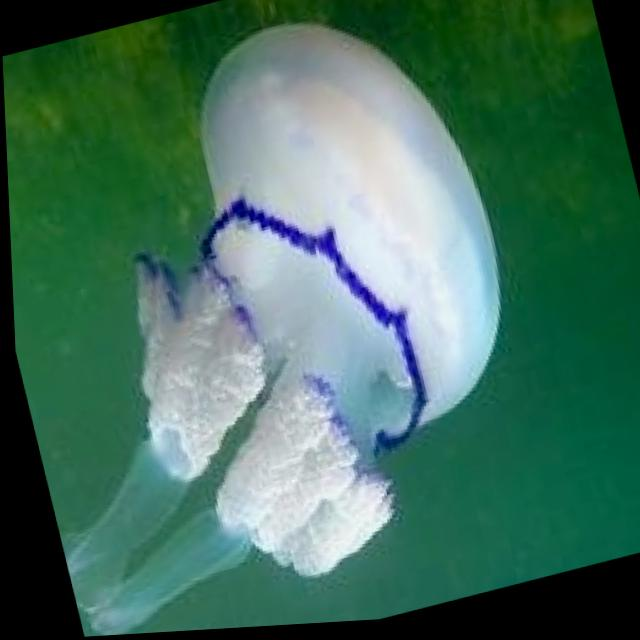Box-jellyfish: (0, 0, 563, 640)
